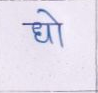e_matra: (37, 9, 62, 22)
